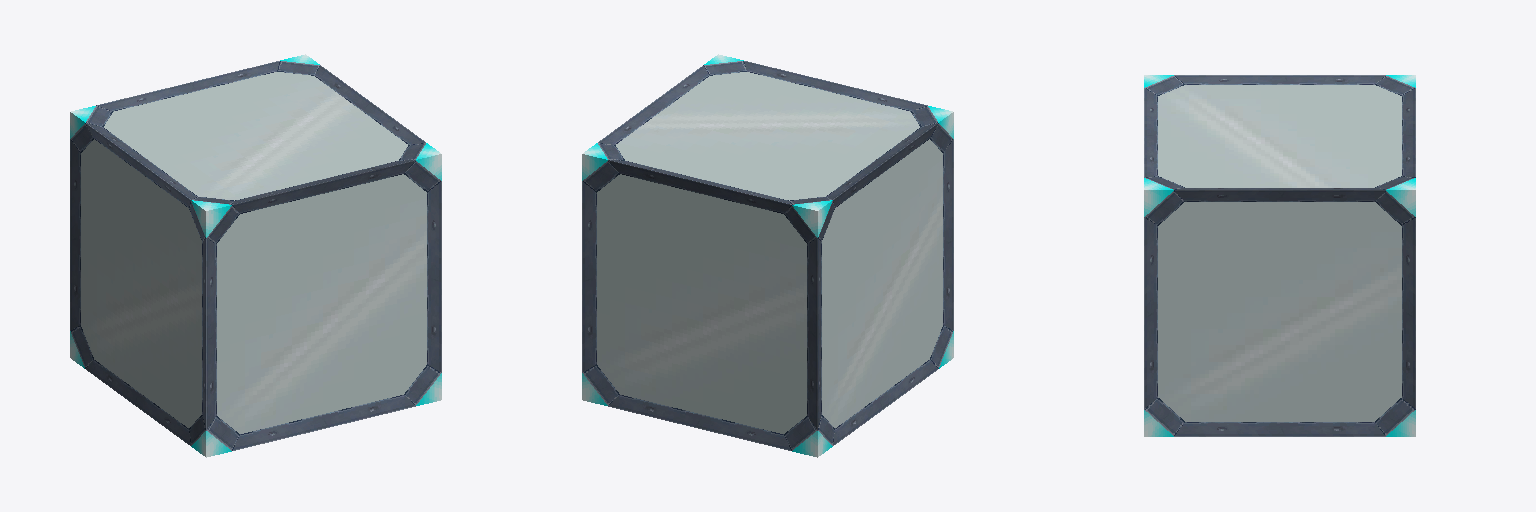
3 renders of one model, left to right at view 1: azimuth 30°, elevation 25°; view 2: azimuth 150°, elevation 25°; view 3: azimuth 270°, elevation 25°, orthographic.
Parts seen in each view (by area): view 1: polygon2, polygon0, polygon1; view 2: polygon2, polygon0, polygon1; view 3: polygon2, polygon0, polygon1.
Boxes of the visible parts, x1,y1,x2,y2 form: polygon2: [81, 72, 426, 433]; polygon0: [70, 61, 441, 450]; polygon1: [70, 54, 441, 457]; polygon2: [597, 72, 942, 433]; polygon0: [582, 61, 953, 450]; polygon1: [582, 54, 953, 457]; polygon2: [1158, 85, 1401, 421]; polygon0: [1144, 75, 1415, 436]; polygon1: [1144, 75, 1415, 436].
Bounding box in the file's own units: 20 × 20 × 20.
3 materials, 2 textured.